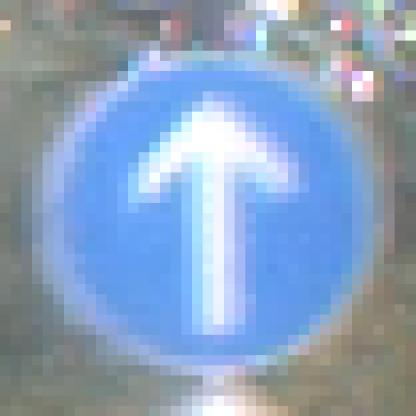AheadOnly: (54, 62, 364, 366)
